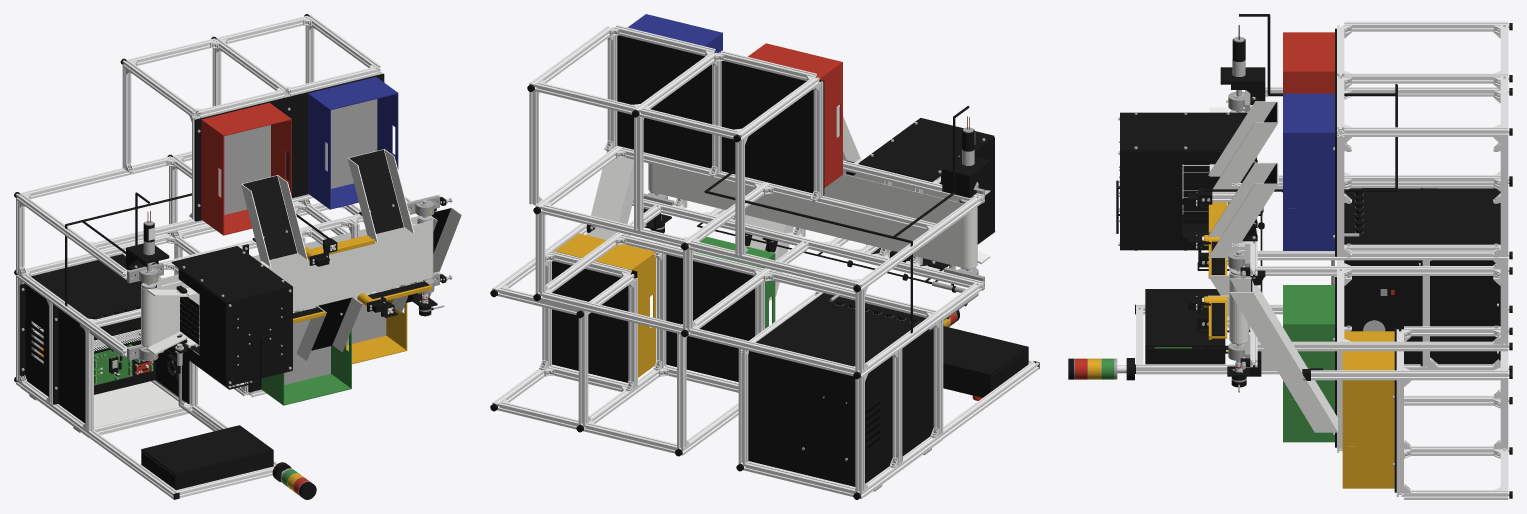
The model's file is machine.min.glb.
The picture shows the model from 3 angles, left to right: view 1: azimuth 30°, elevation 25°; view 2: azimuth 150°, elevation 25°; view 3: azimuth 270°, elevation 25°; orthographic projection. The views are drawn at different scales.
Parts seen in each view (by area): view 1: static, P3, P2; view 2: static; view 3: static, P3, P1.
Boxes of the visible parts, box(x1,y1,x2,y2) form: static: box(14, 14, 461, 499); P3: box(358, 281, 432, 306); P2: box(305, 235, 374, 260); static: box(490, 14, 1039, 499); static: box(1068, 14, 1512, 499); P3: box(1204, 296, 1227, 339); P1: box(1204, 235, 1227, 278).
Size of the model in its own units: 1.2 by 1.07 by 1.19.
